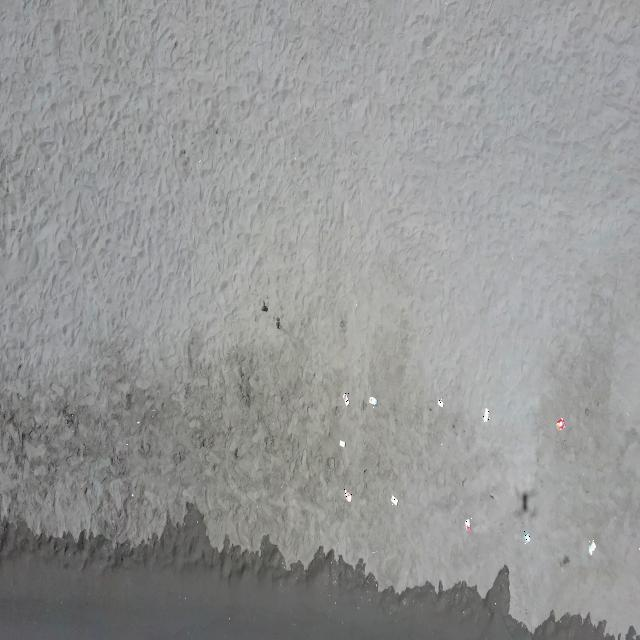Garbage: (587, 540, 595, 555), (555, 418, 564, 430), (344, 488, 351, 502), (464, 517, 470, 532), (523, 531, 529, 543), (436, 397, 443, 407), (261, 300, 267, 311), (484, 407, 488, 422), (343, 392, 348, 404), (368, 396, 375, 404), (391, 495, 396, 504), (276, 316, 280, 327), (339, 440, 344, 447)
